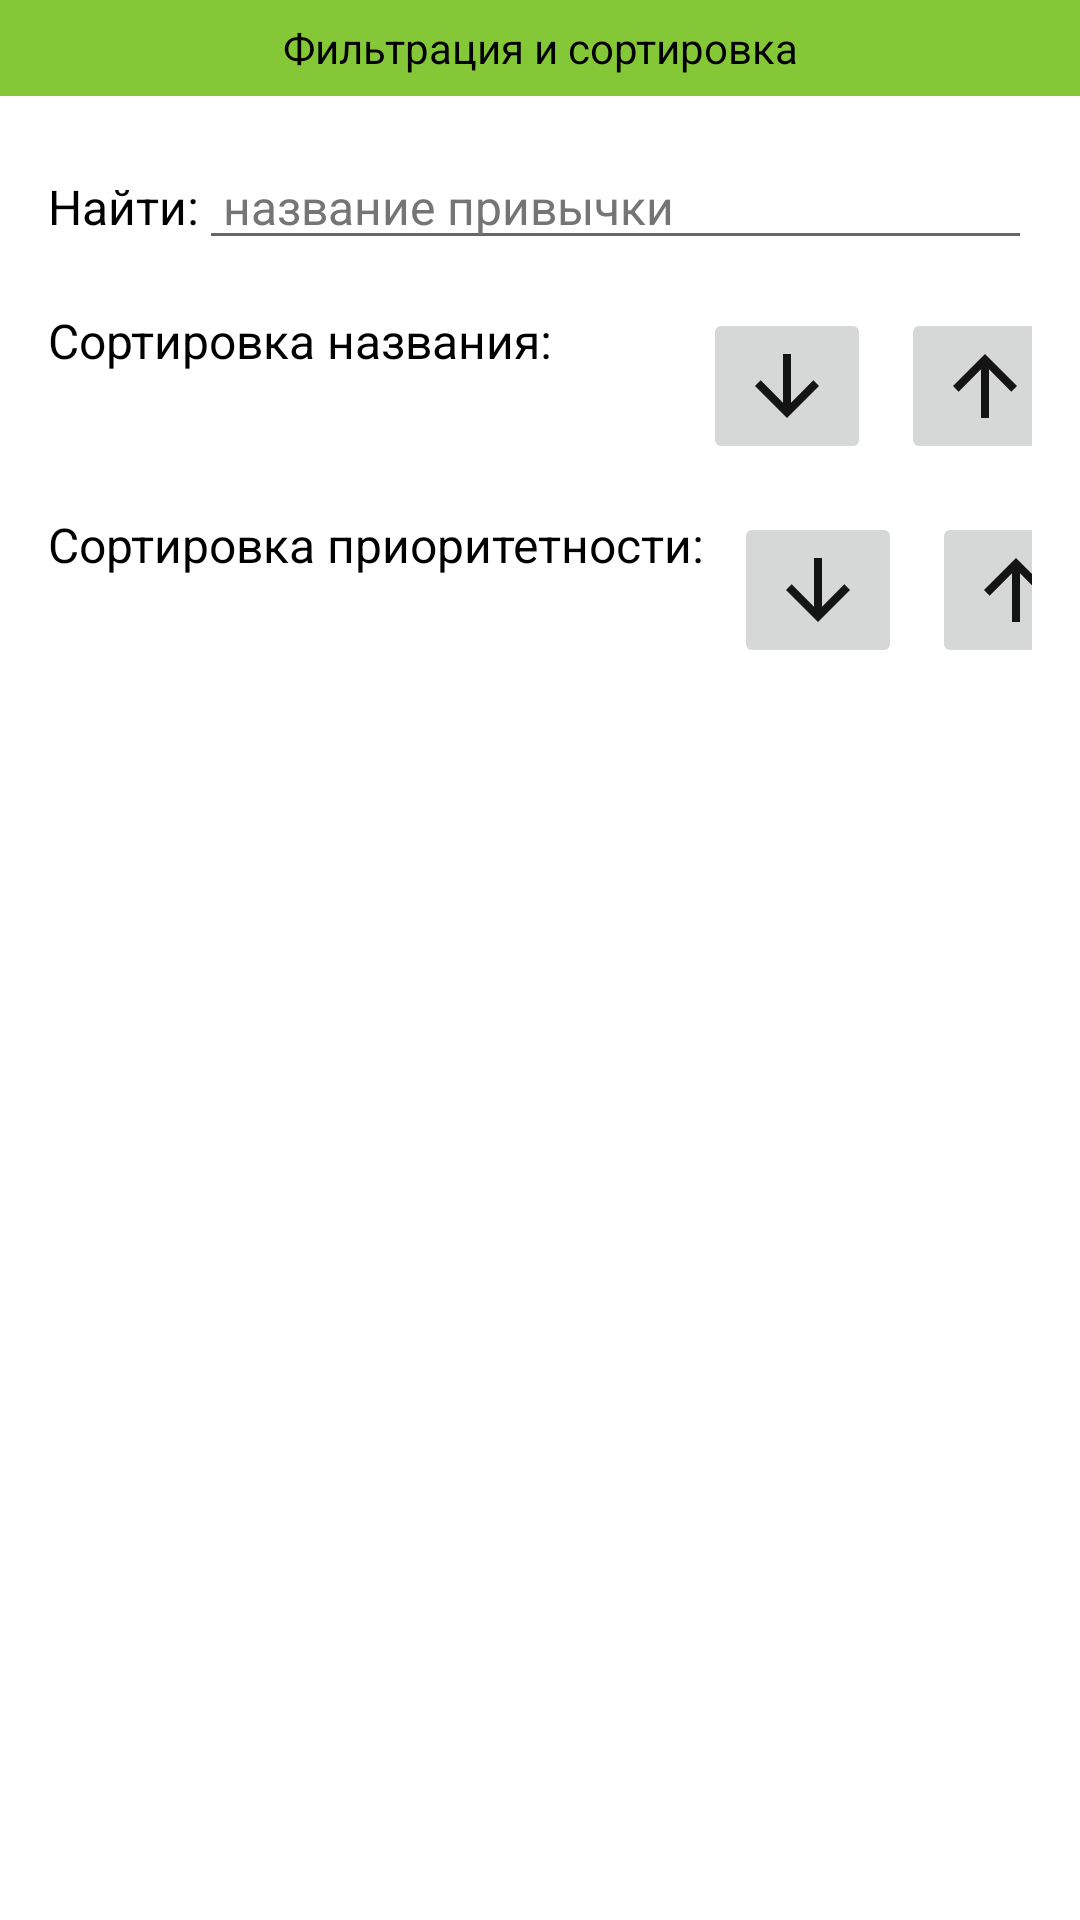

Screen size 1080px×1920px. Icon name, then its center in pixels as (x,y):
В прямом алфавитном порядке: (787,386), (818,590)
